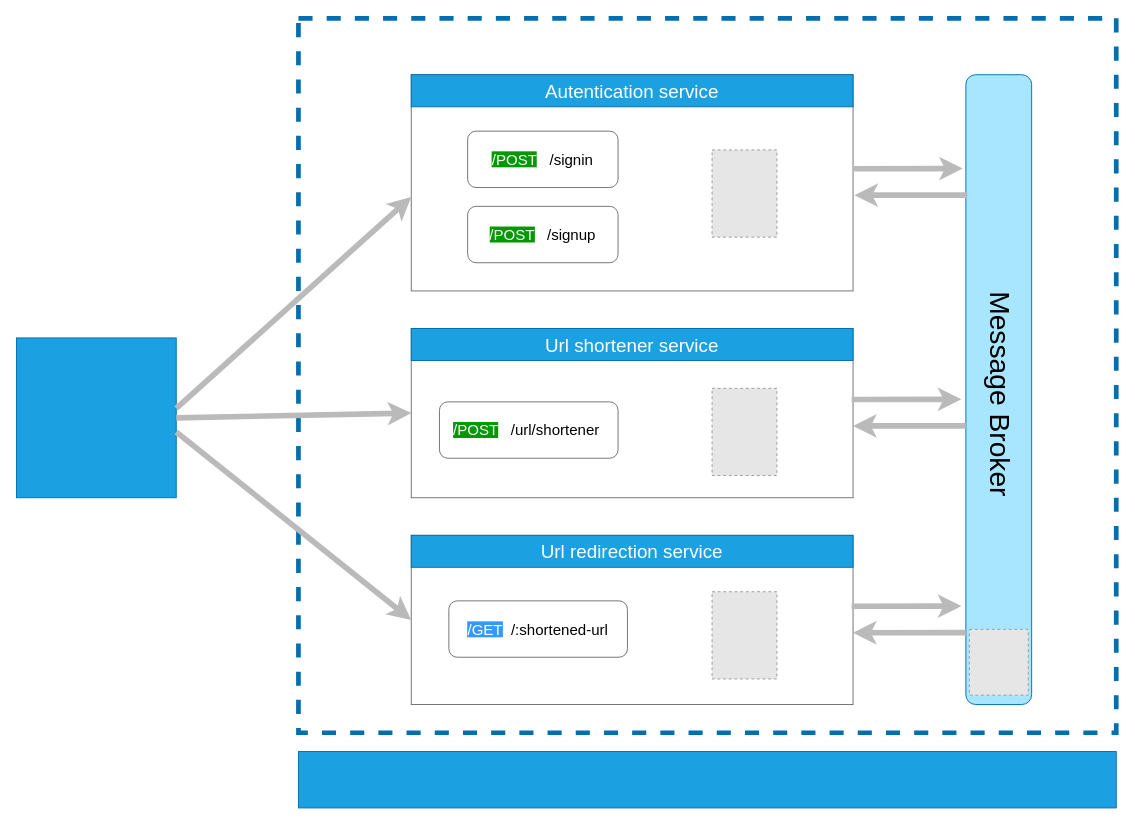
The diagram is 1135 pixels wide and 824 high, and some of its shapes have lost their labels. Grey dashed boxes stand in for pictures. Each missing label, with the box of its shape:
API Gateway: (16, 337, 176, 498)
Orchestration: (298, 751, 1116, 808)
